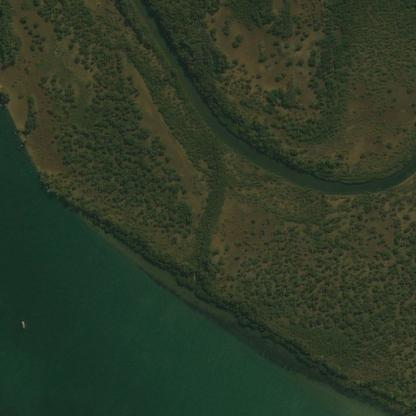ship: (18, 314, 28, 332)
